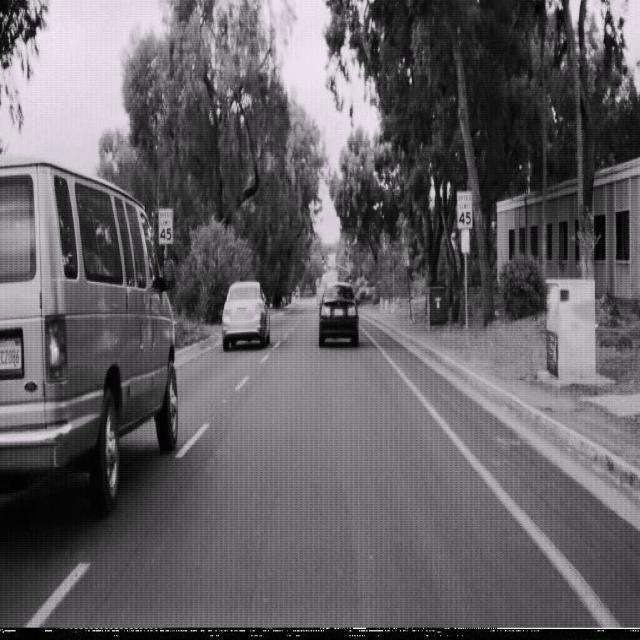speedLimit45: (456, 189, 472, 229), (158, 206, 173, 245)
